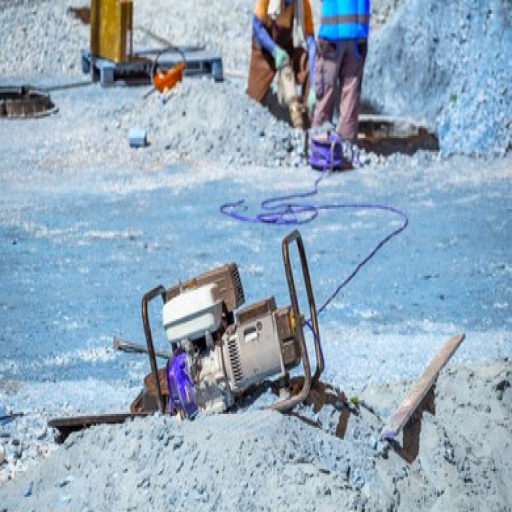portable_generator: (140, 260, 336, 414)
